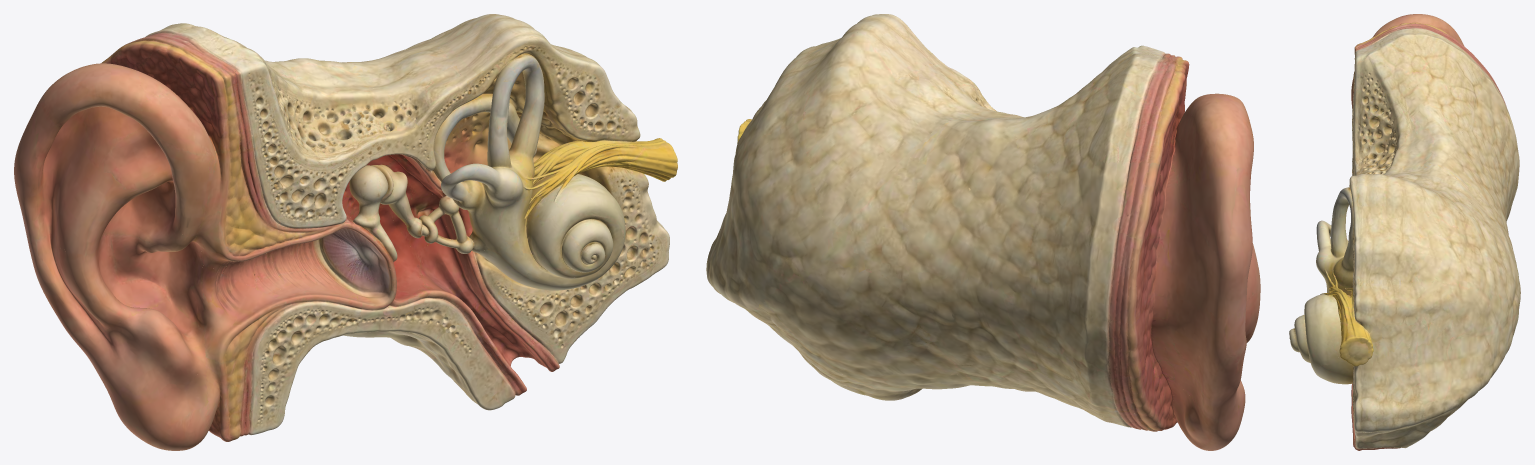
Rendered from human-ear-anatomy.glb.
The picture shows the model from 3 angles, left to right: view 1: azimuth 30°, elevation 25°; view 2: azimuth 150°, elevation 25°; view 3: azimuth 270°, elevation 25°; orthographic projection. The views are drawn at different scales.
Visible parts, largest first — view 1: human-ear-anatomy; view 2: human-ear-anatomy; view 3: human-ear-anatomy.
Boxes of the visible parts, x1=… form: human-ear-anatomy: x1=14, y1=14, x2=677, y2=450; human-ear-anatomy: x1=706, y1=14, x2=1260, y2=450; human-ear-anatomy: x1=1289, y1=14, x2=1520, y2=450.
Bounding box in the file's own units: 0.12 × 0.0825 × 0.0548.
1 material, 1 textured.
